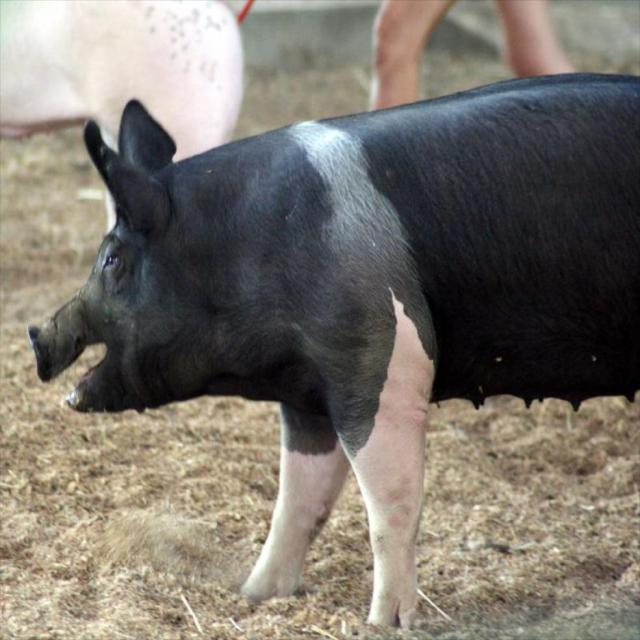Pig: (26, 71, 639, 628)
